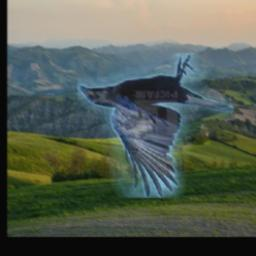Crow: (78, 53, 234, 198)
